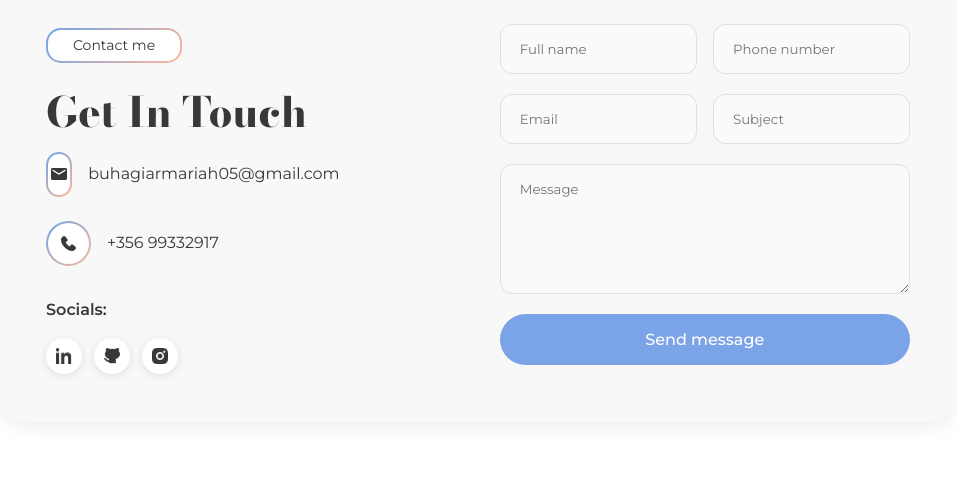
Test: ContactForm validation › shows validation errors when submitting empty form
Note: simulate user clicking the submit button
Click the button "Send message". click: coordinates (705, 340)
box: [500, 314, 910, 366]
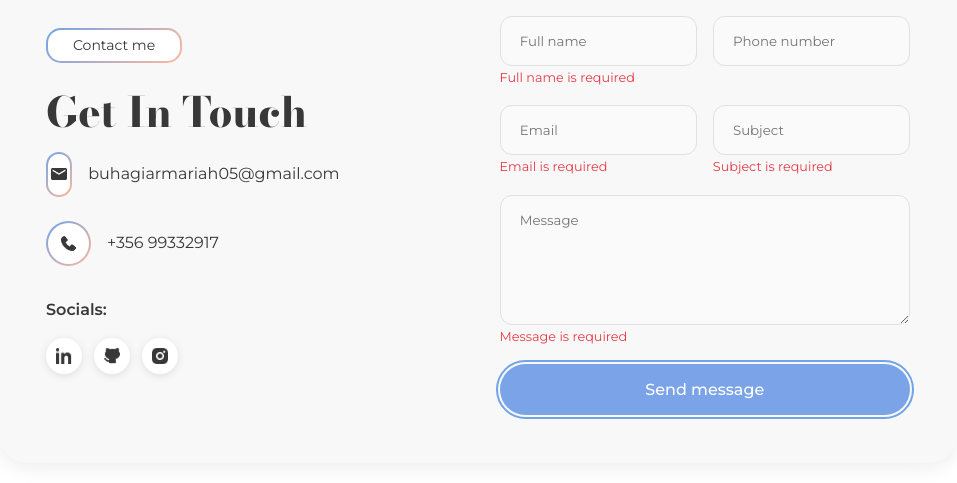
expect the text "Full name is required" is shown: met, box [500, 70, 635, 85]
expect the text "Email is required" is shown: met, box [500, 159, 607, 174]
expect the text "Subject is required" is shown: met, box [713, 159, 833, 174]
